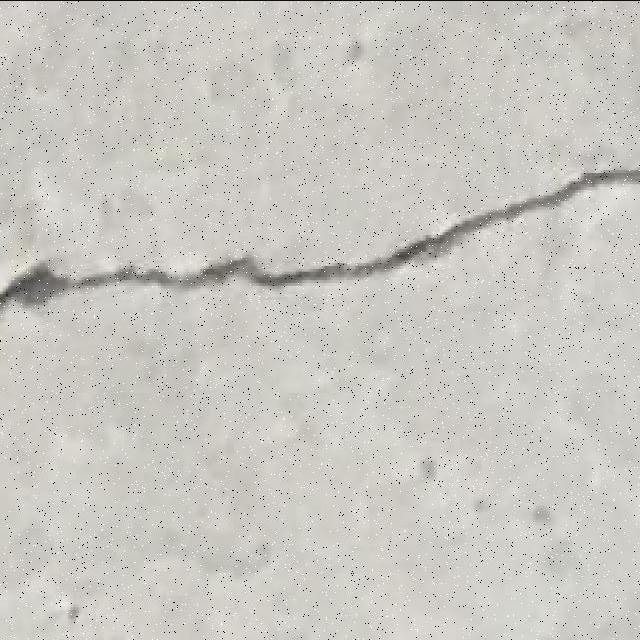crack: (1, 166, 638, 309)
